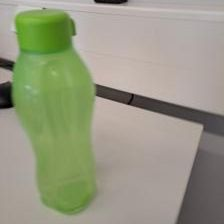bottle: (9, 4, 99, 213)
